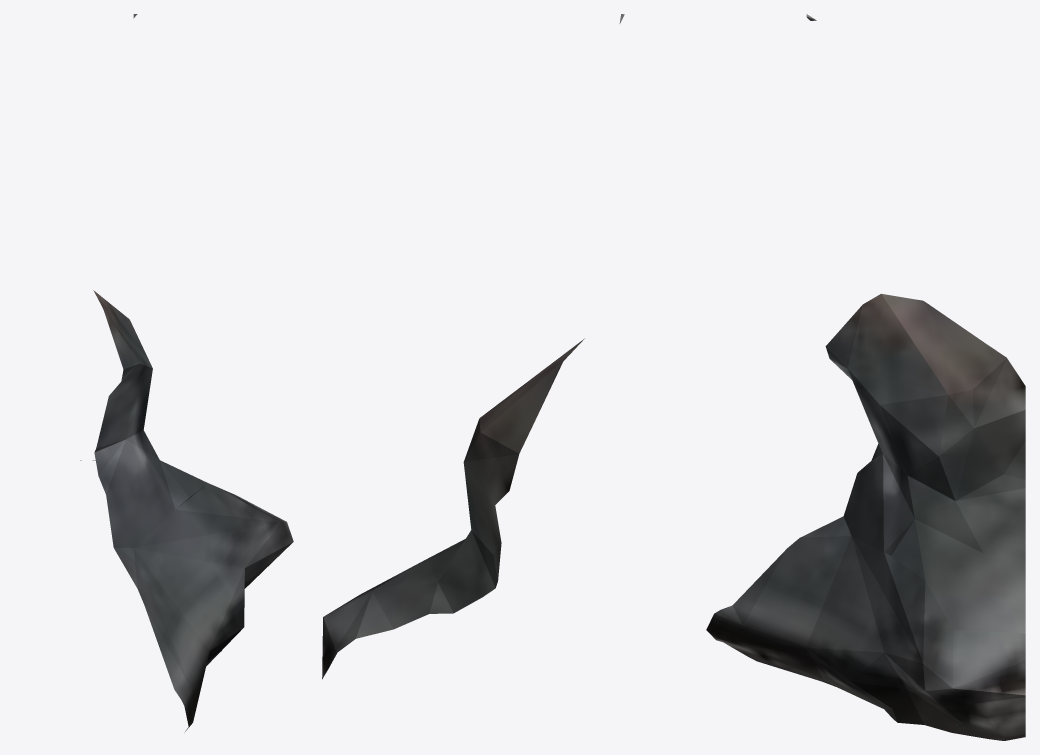
The picture shows the model from 3 angles, left to right: view 1: azimuth 30°, elevation 25°; view 2: azimuth 150°, elevation 25°; view 3: azimuth 270°, elevation 25°; orthographic projection. The views are drawn at different scales.
Bounding box in the file's own units: 0.1156 × 0.3351 × 0.1499.
Materials: 1 (1 with a texture image).
